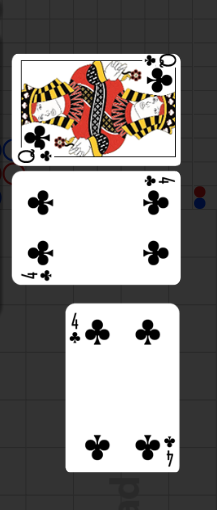4C: (20, 267, 54, 282), (162, 433, 176, 468)
QC: (134, 55, 181, 99), (14, 122, 60, 166)
